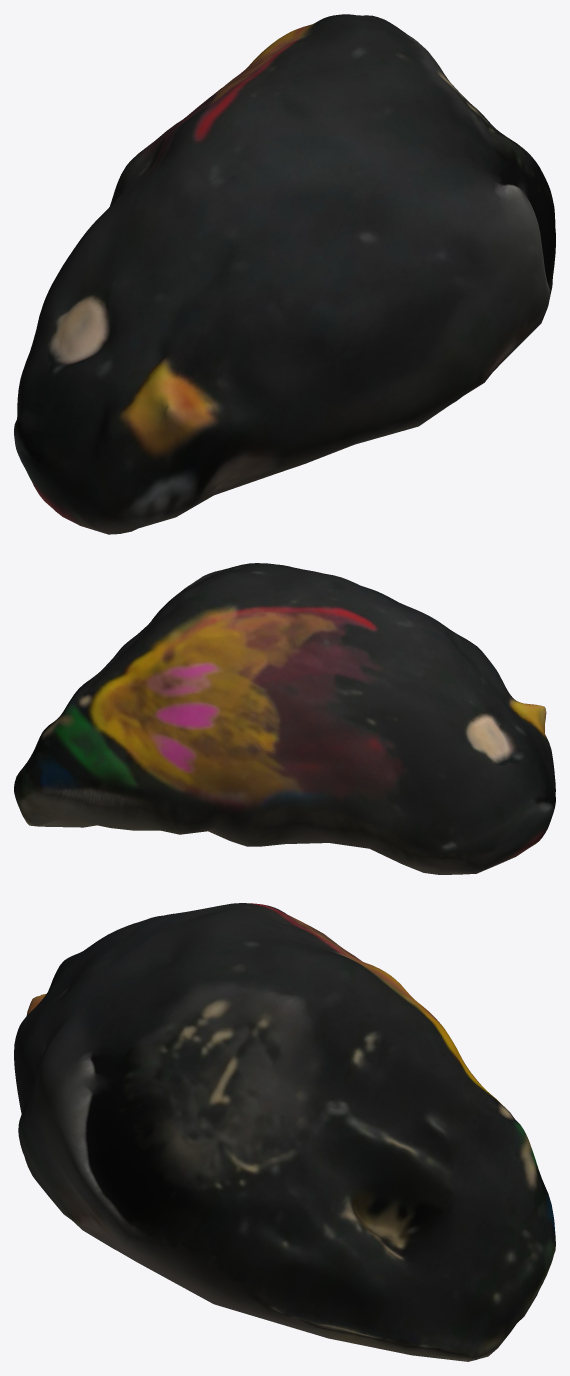
3 renders of one model, top to bottom at view 1: azimuth 30°, elevation 25°; view 2: azimuth 150°, elevation 25°; view 3: azimuth 270°, elevation 25°, orthographic. The views are drawn at different scales.
Bounding box in the file's own units: 0.3584 × 0.2162 × 0.2867.
1 material, 1 textured.
